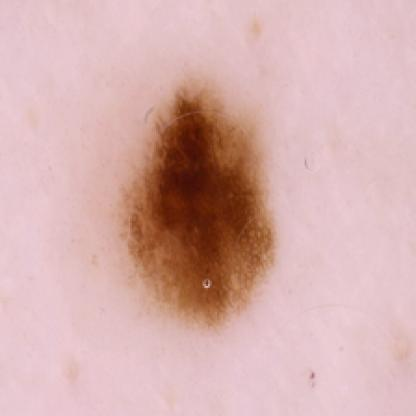Skin_Cancer-Malignant: (115, 81, 280, 327)
